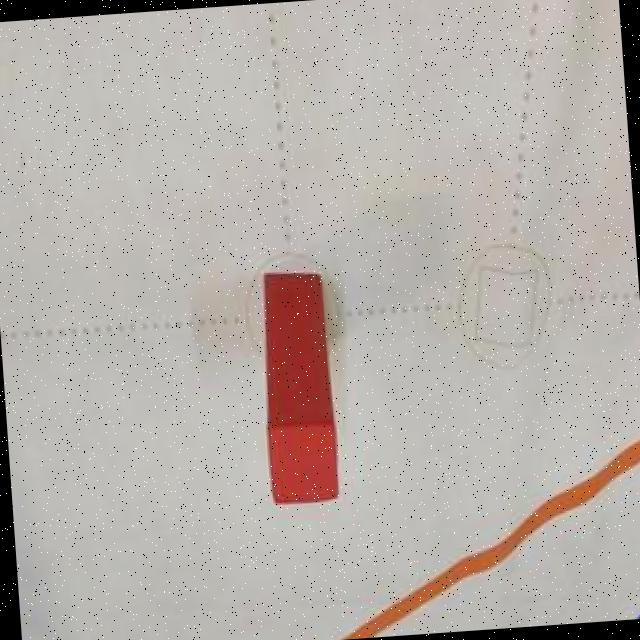redbox: (254, 268, 340, 510)
